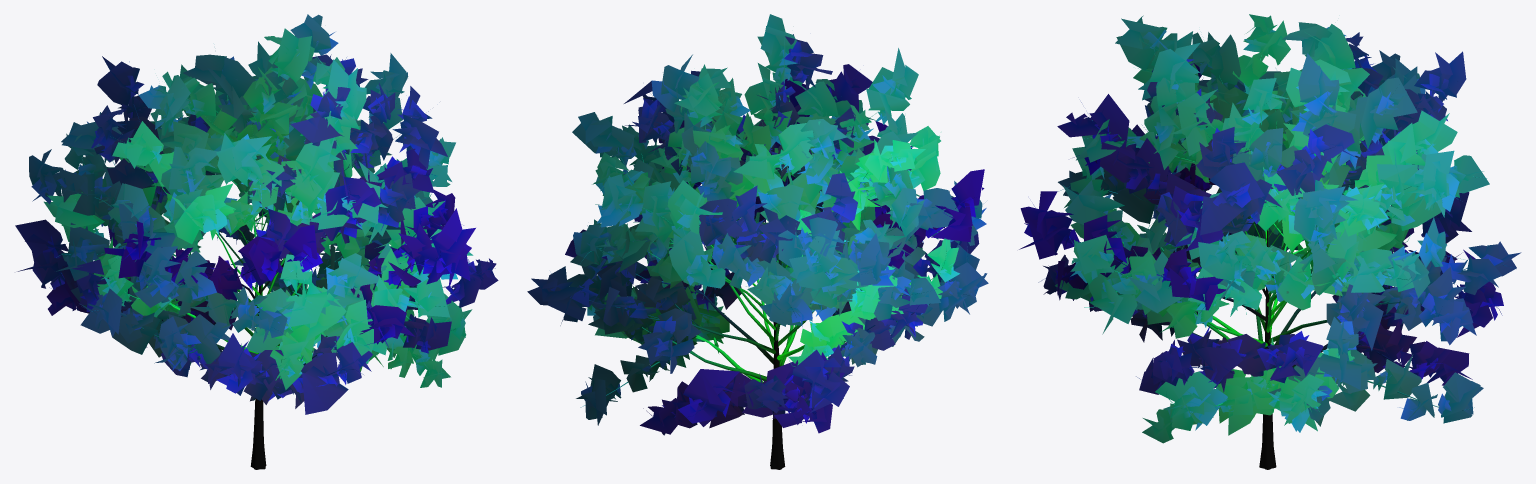
The model's file is cP_Tree02.fbx.
3 renders of one model, left to right at view 1: azimuth 30°, elevation 25°; view 2: azimuth 150°, elevation 25°; view 3: azimuth 270°, elevation 25°, orthographic. The views are drawn at different scales.
Visible parts, largest first — view 1: cP_Tree02_LOD0; view 2: cP_Tree02_LOD0; view 3: cP_Tree02_LOD0.
Part boxes in pixels (x1,y1,x2,y2): cP_Tree02_LOD0: [15, 14, 498, 469]; cP_Tree02_LOD0: [527, 14, 988, 469]; cP_Tree02_LOD0: [1019, 14, 1521, 469].
Size of what is drawn, in the model's own units: 1140 by 1178 by 1203.
